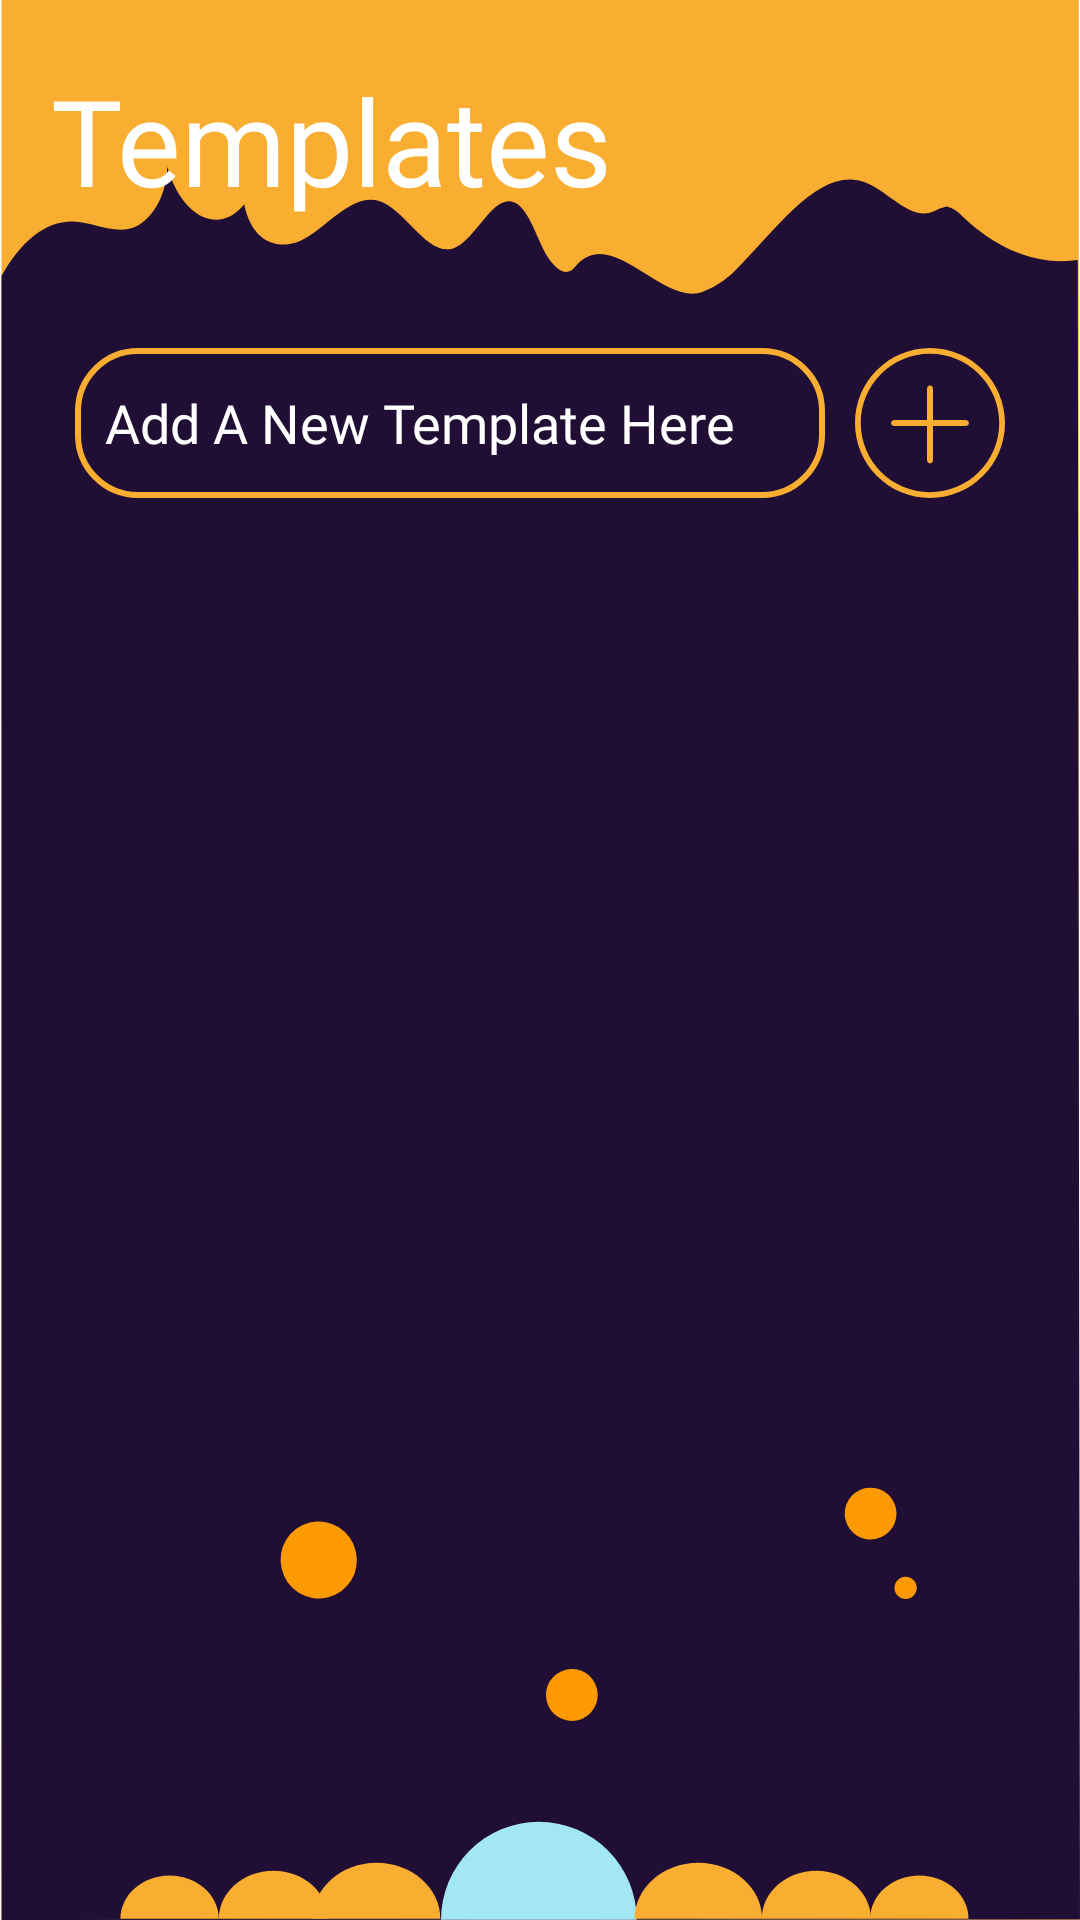

Icons on this 1080w x 1920h Android screen, each with its box as (x1, y1, x2, y2):
plus: (855, 348, 1005, 498)
